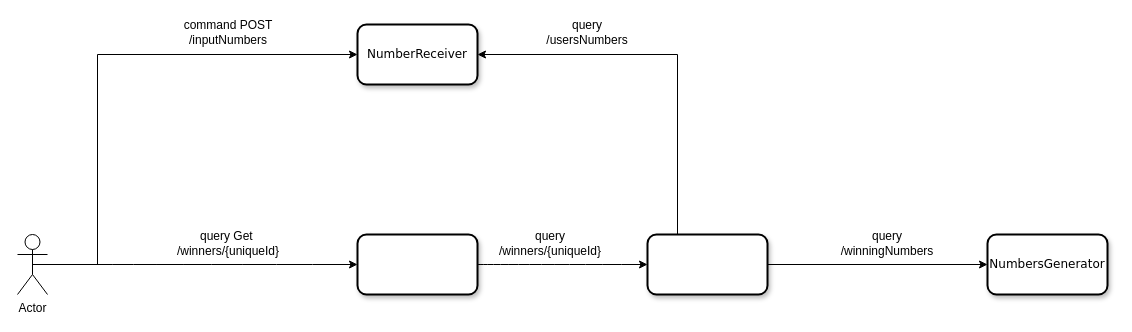
The diagram is 1132 pixels wide and 332 high, and some of its shapes have lost their labels. The shapes that lost their labels are listed below. From the top down, each one's centre as x and y in pixels, then its label:
At (x=418, y=265): "ResultAnnouncer".
At (x=708, y=265): "ResultChecker".
